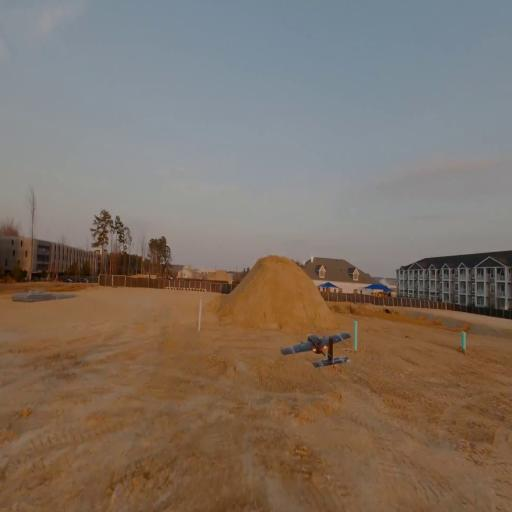uav: (280, 326, 354, 374)
